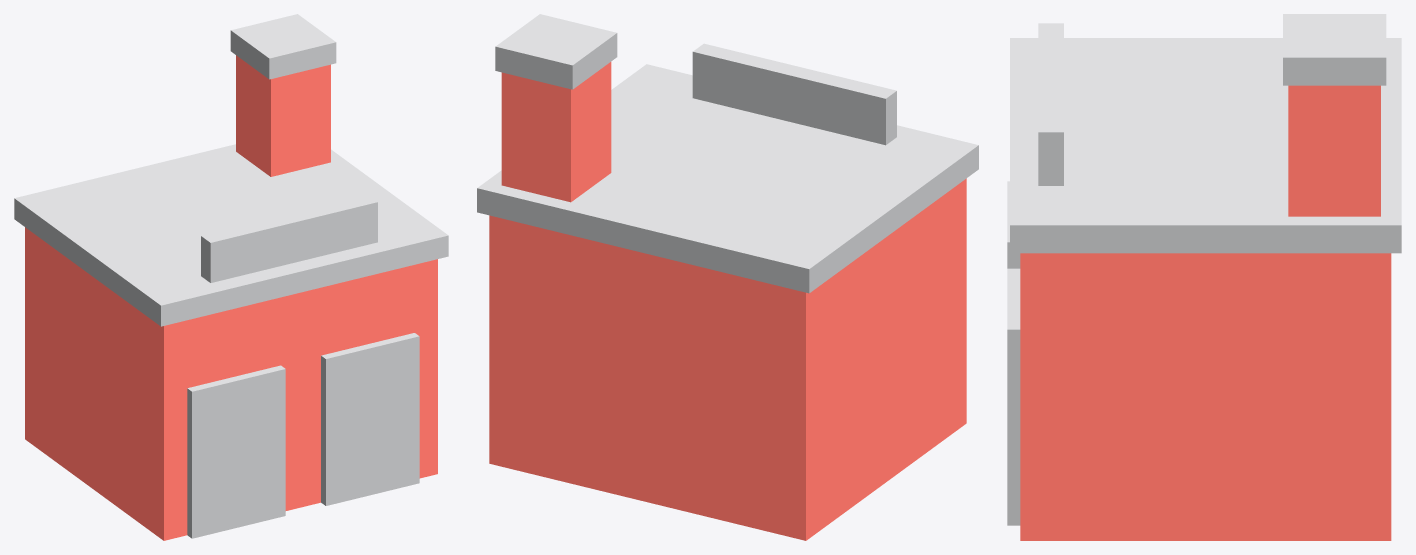
Rendered from fire.glb.
3 renders of one model, left to right at view 1: azimuth 30°, elevation 25°; view 2: azimuth 150°, elevation 25°; view 3: azimuth 270°, elevation 25°, orthographic. The views are drawn at different scales.
Parts seen in each view (by area): view 1: fire; view 2: fire; view 3: fire.
Boxes of the visible parts, bbox=[...] form: fire: bbox=[14, 14, 448, 540]; fire: bbox=[477, 14, 978, 540]; fire: bbox=[1007, 14, 1401, 540].
Size of the model in its own units: 0.86 by 1.03 by 0.765.
